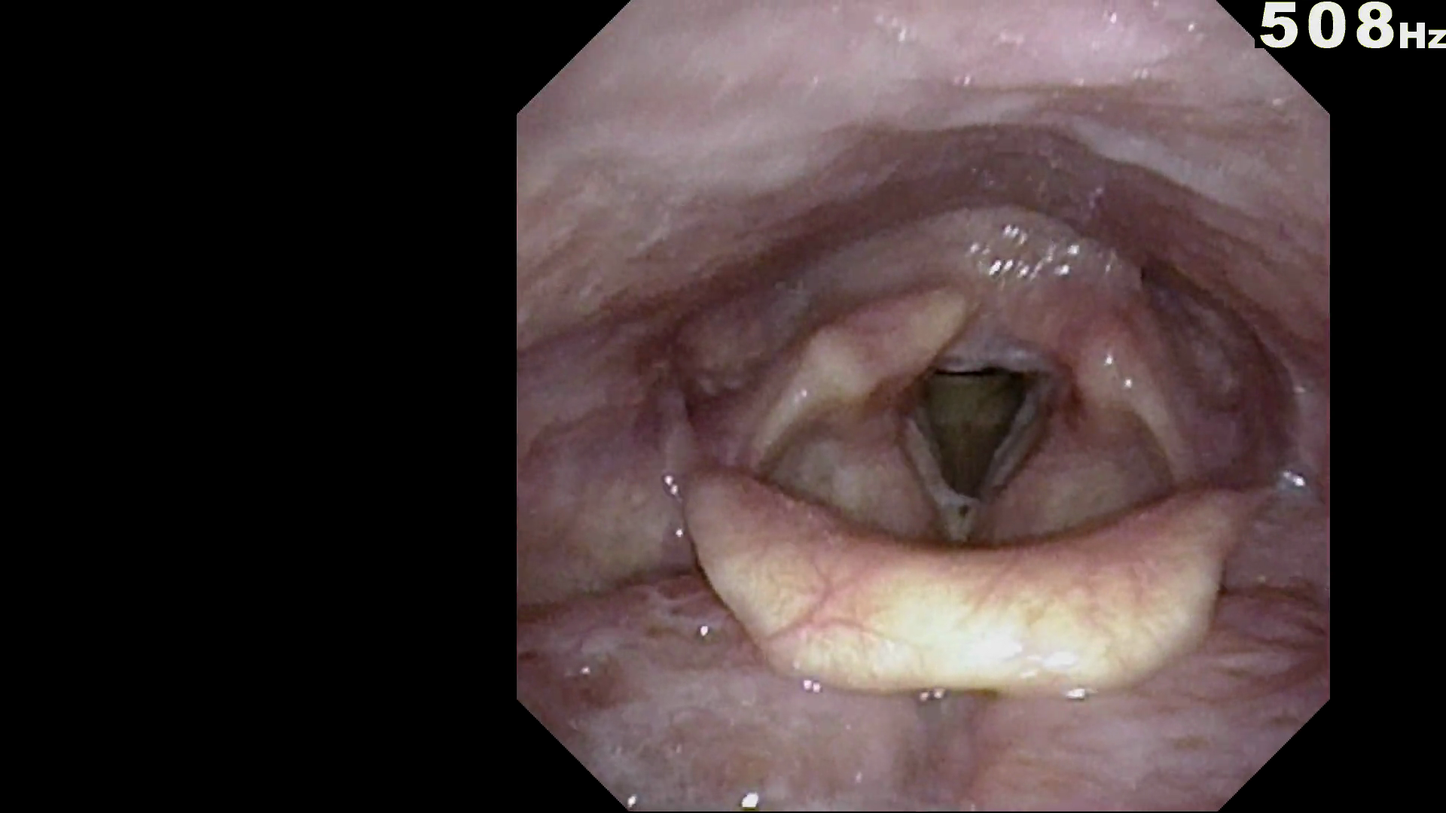epiglottis: (656, 416, 1267, 748)
trachea: (856, 318, 1081, 545)
